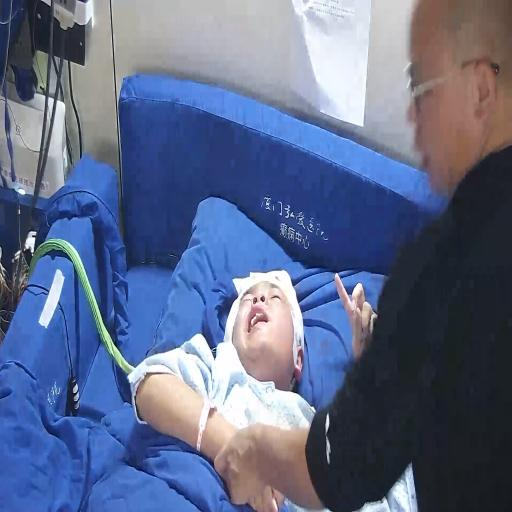Seizure: (238, 270, 309, 380)
